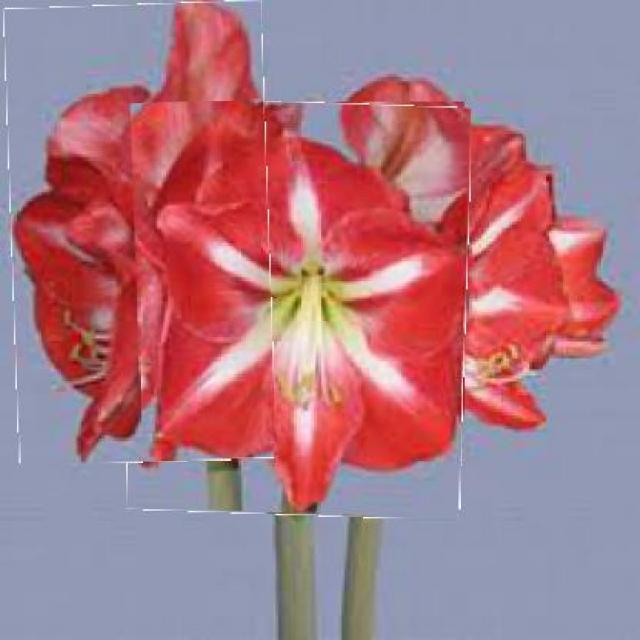Flower: (130, 99, 470, 518), (7, 1, 271, 462)
